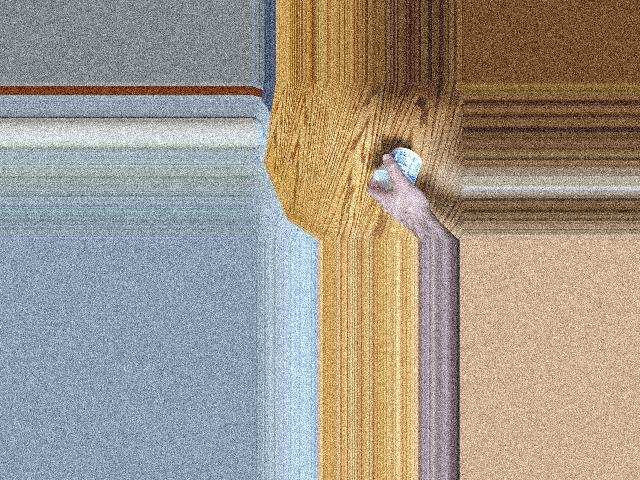cotage: (373, 152, 427, 197)
